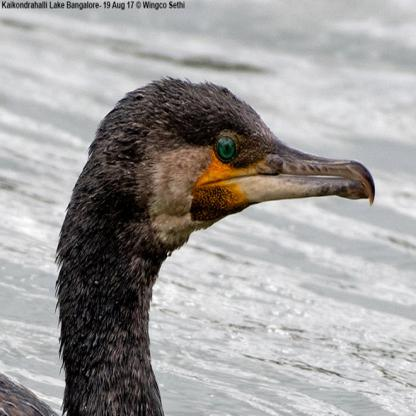Burung: (49, 77, 374, 415)
